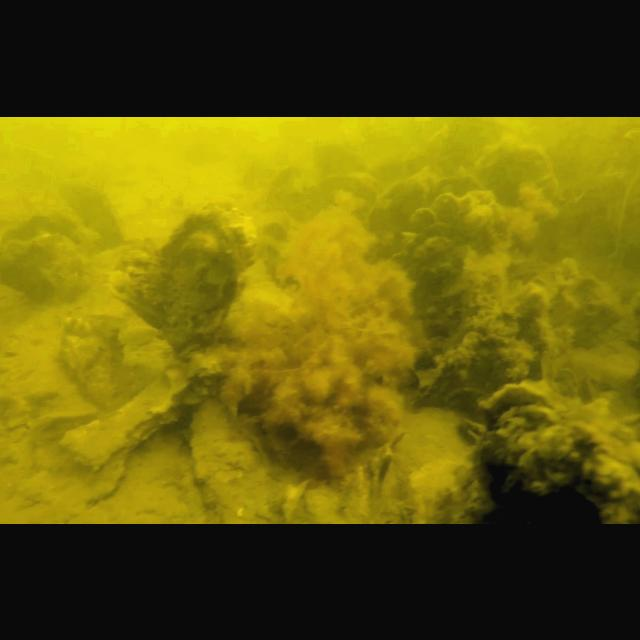Oyster-Closed: (166, 199, 258, 359), (59, 362, 192, 470), (520, 420, 640, 524), (187, 394, 279, 524), (473, 137, 559, 253), (364, 170, 488, 246), (59, 312, 122, 410), (107, 234, 167, 334), (408, 188, 498, 250), (58, 177, 124, 241)
Oyster-Open: (478, 381, 560, 524), (0, 207, 96, 299), (404, 222, 468, 342), (256, 218, 304, 298)
